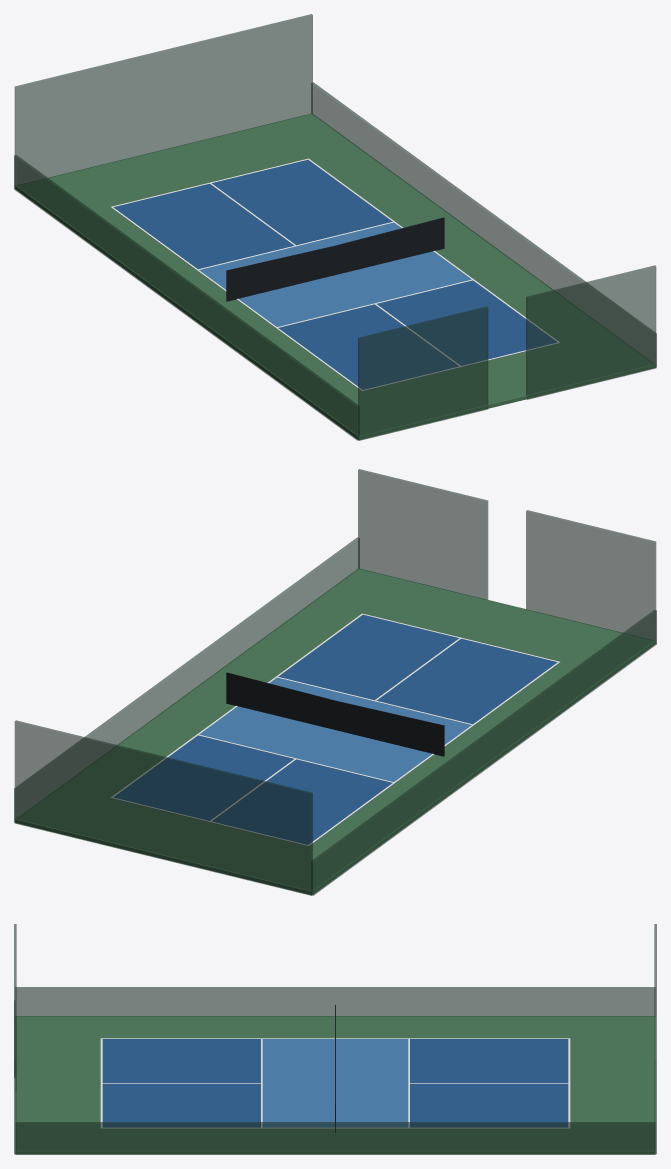
The model's file is pickleball-court.glb.
3 views of the same model, one above another, from view 1: azimuth 30°, elevation 25°; view 2: azimuth 150°, elevation 25°; view 3: azimuth 270°, elevation 25° (orthographic). The views are drawn at different scales.
Visible parts, largest first — view 1: Pickleball court | Fence mesh, Pickleball court | Surround, Pickleball court | Court, Pickleball court | Kitchen, Pickleball court | Net, Pickleball court | Lines; view 2: Pickleball court | Fence mesh, Pickleball court | Surround, Pickleball court | Court, Pickleball court | Kitchen, Pickleball court | Net, Pickleball court | Lines; view 3: Pickleball court | Surround, Pickleball court | Fence mesh, Pickleball court | Court, Pickleball court | Kitchen, Pickleball court | Lines.
Part boxes in pixels (bbox=[...]): Pickleball court | Fence mesh: bbox=[14, 14, 656, 440]; Pickleball court | Surround: bbox=[15, 113, 655, 439]; Pickleball court | Court: bbox=[111, 160, 556, 389]; Pickleball court | Kitchen: bbox=[199, 222, 471, 326]; Pickleball court | Net: bbox=[226, 217, 444, 301]; Pickleball court | Lines: bbox=[111, 158, 559, 390]; Pickleball court | Fence mesh: bbox=[14, 469, 656, 895]; Pickleball court | Surround: bbox=[15, 568, 655, 894]; Pickleball court | Court: bbox=[114, 615, 559, 844]; Pickleball court | Kitchen: bbox=[199, 677, 471, 781]; Pickleball court | Net: bbox=[226, 672, 444, 756]; Pickleball court | Lines: bbox=[111, 613, 559, 845]; Pickleball court | Surround: bbox=[15, 1016, 655, 1154]; Pickleball court | Fence mesh: bbox=[14, 924, 656, 1154]; Pickleball court | Court: bbox=[102, 1039, 568, 1127]; Pickleball court | Kitchen: bbox=[262, 1039, 408, 1127]; Pickleball court | Lines: bbox=[100, 1038, 570, 1128].
Size of the model in its own units: 9.22 by 3 by 18.37.
